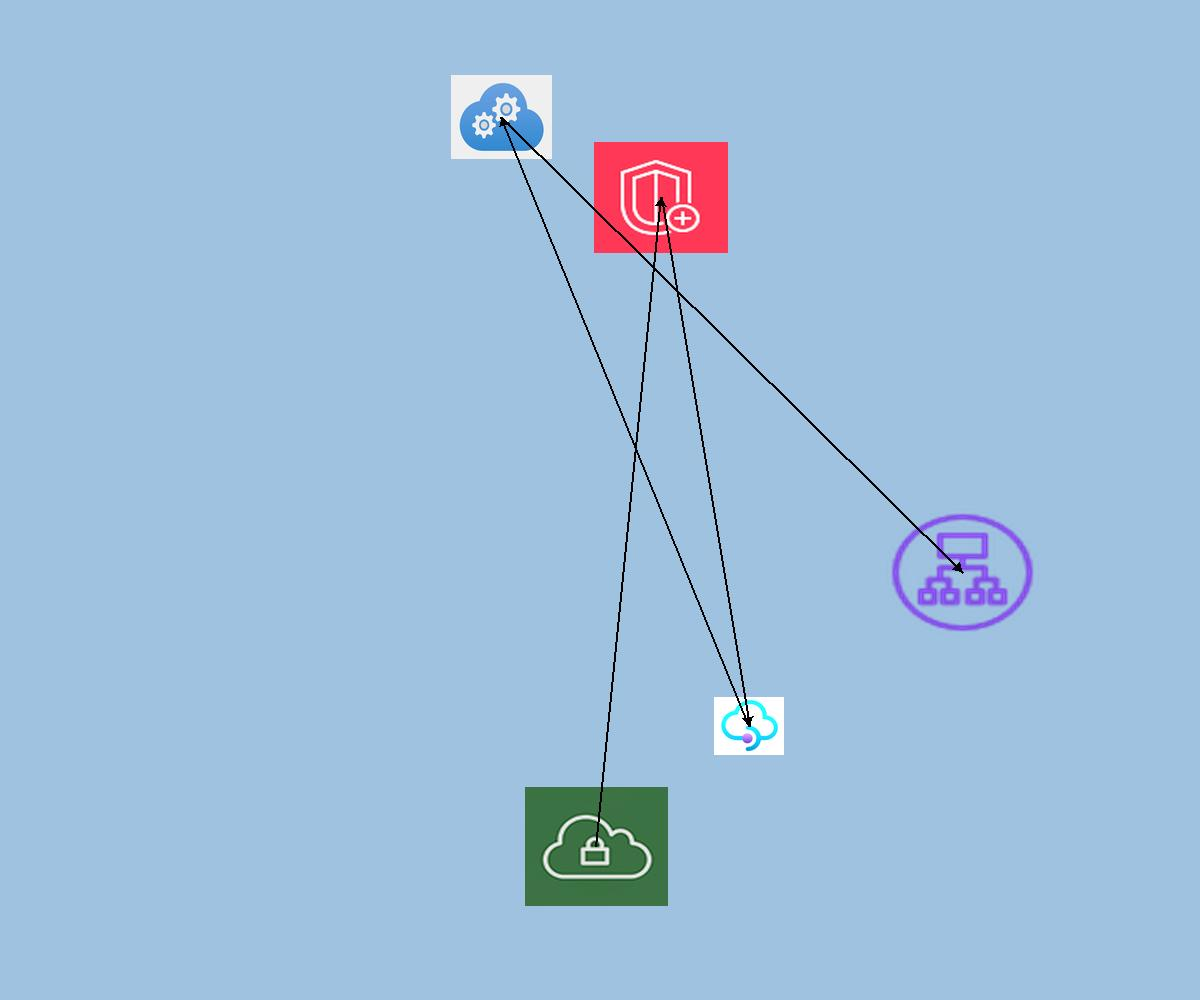AWS-Private_vpc: (525, 787, 668, 906)
AWS-Res_Elastic-Load-Balancing_Application-Load-Balancer: (886, 509, 1039, 636)
AWS-Shield: (594, 142, 728, 253)
Azure_api_gateway: (714, 697, 784, 755)
Azure_cloud_services: (451, 75, 552, 159)
